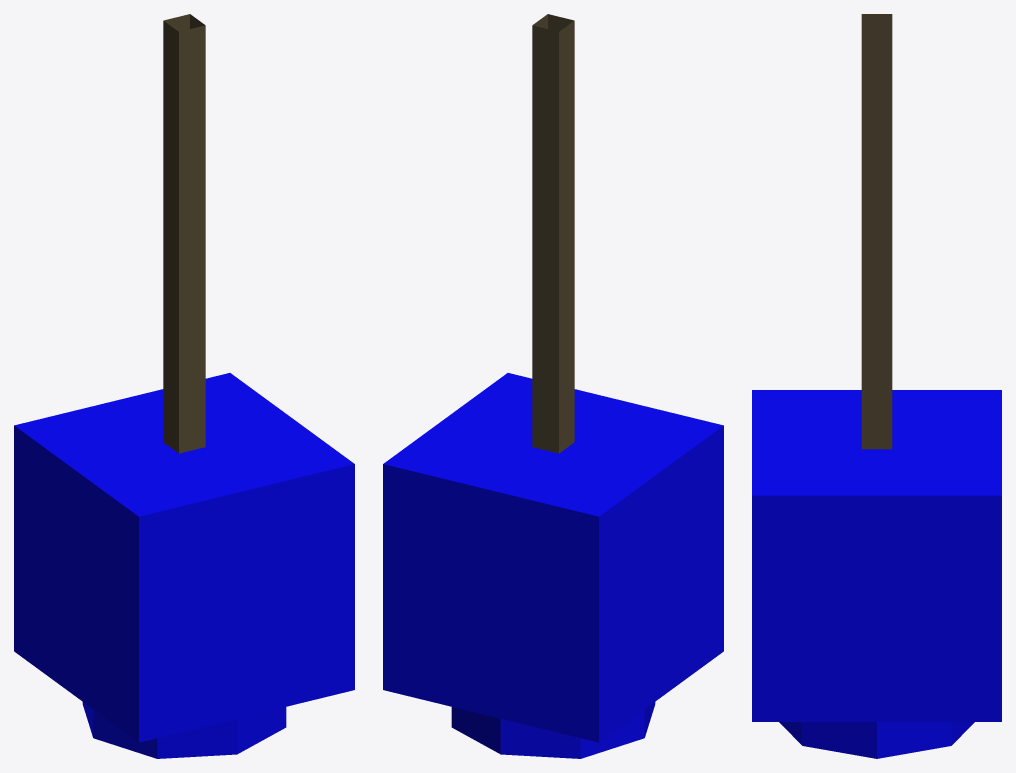
The model's file is FocoAzul.obj.
The picture shows the model from 3 angles, left to right: view 1: azimuth 30°, elevation 25°; view 2: azimuth 150°, elevation 25°; view 3: azimuth 270°, elevation 25°; orthographic projection.
Parts seen in each view (by area): view 1: Cube_Cube.001; view 2: Cube_Cube.001; view 3: Cube_Cube.001.
Boxes of the visible parts, bbox=[...] form: Cube_Cube.001: bbox=[14, 14, 354, 758]; Cube_Cube.001: bbox=[383, 14, 723, 758]; Cube_Cube.001: bbox=[752, 14, 1001, 758].
Bounding box in the file's own units: 1 × 3.07 × 1.
